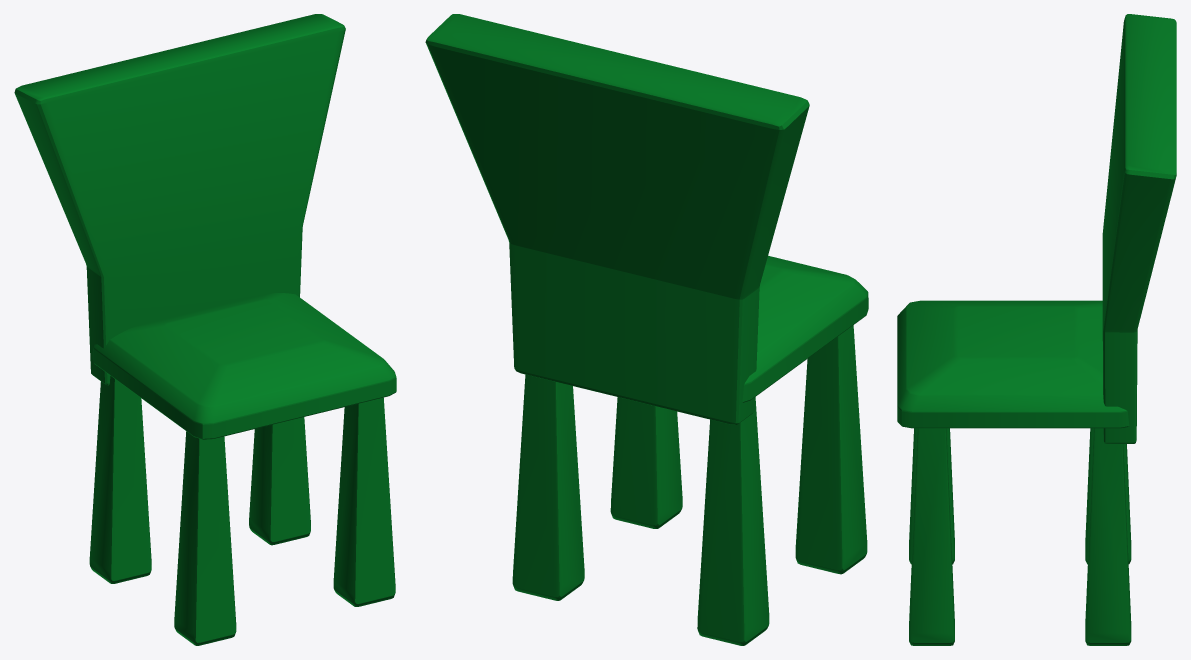
File: chair6.fbx
The picture shows the model from 3 angles, left to right: view 1: azimuth 30°, elevation 25°; view 2: azimuth 150°, elevation 25°; view 3: azimuth 270°, elevation 25°; orthographic projection. The views are drawn at different scales.
Parts seen in each view (by area): view 1: Chair6; view 2: Chair6; view 3: Chair6.
Boxes of the visible parts, x1,y1,x2,y2 form: Chair6: (14,14,396,645); Chair6: (425,14,868,645); Chair6: (897,14,1176,645).
Bounding box in the file's own units: 66.8 × 99.98 × 50.07.
